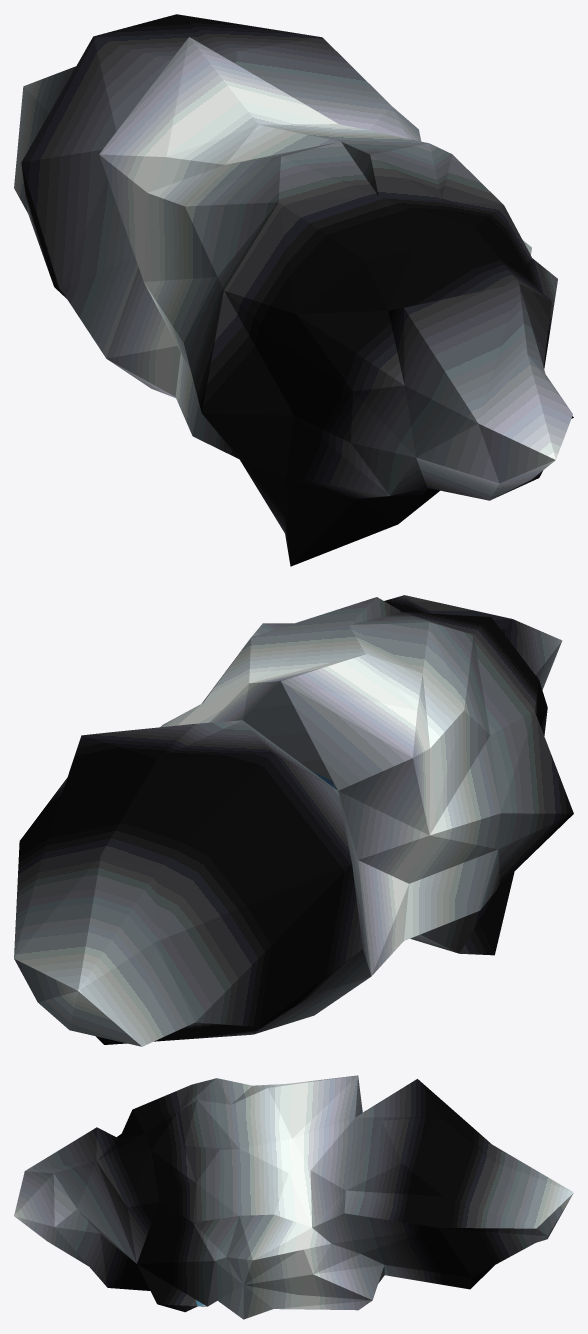
File: zhucheng_yewai_291_cioushi_02_a.obj
The picture shows the model from 3 angles, top to bottom: view 1: azimuth 30°, elevation 25°; view 2: azimuth 150°, elevation 25°; view 3: azimuth 270°, elevation 25°; orthographic projection. The views are drawn at different scales.
Parts seen in each view (by area): view 1: b; view 2: b; view 3: b.
Boxes of the visible parts, x1,y1,x2,y2 form: b: (14, 14, 573, 566); b: (14, 595, 573, 1046); b: (14, 1075, 573, 1319).
Size of the model in its own units: 466 by 440 by 997.
2 materials, 2 textured.
